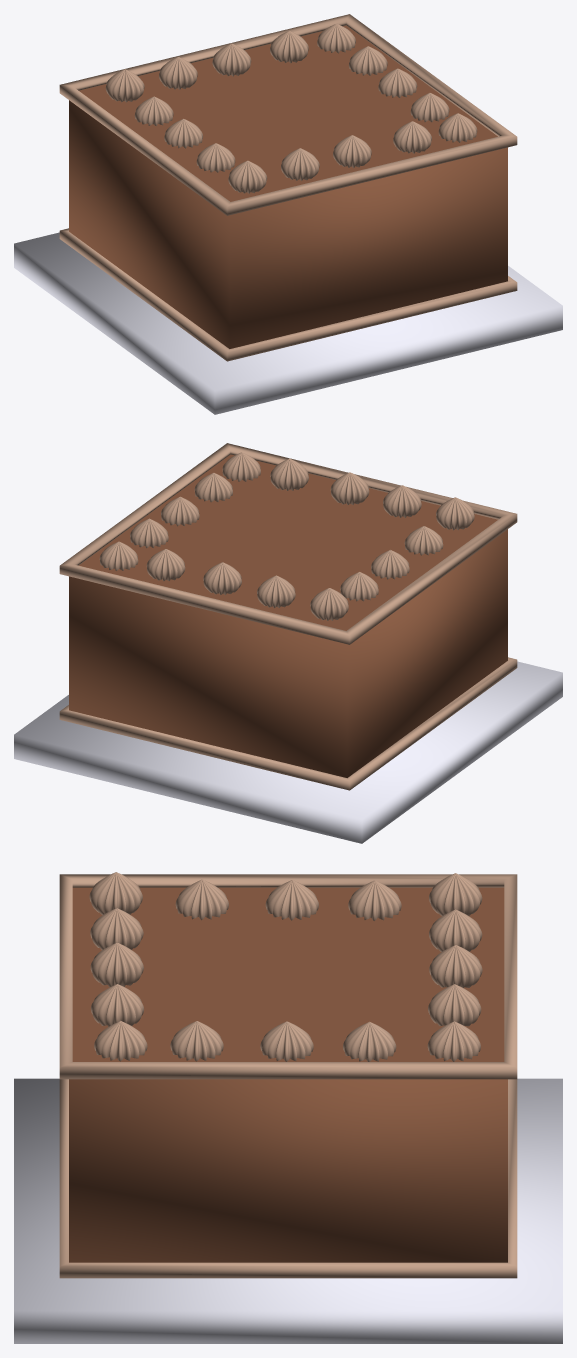
Rendered from square_chocolate_style1.glb.
3 views of the same model, one above another, from view 1: azimuth 30°, elevation 25°; view 2: azimuth 150°, elevation 25°; view 3: azimuth 270°, elevation 25° (orthographic). The views are drawn at different scales.
Visible parts, largest first — view 1: CakeBase, IcingStand, CakeTopCircle, IcingRing, IcingRing.001, design12, design13, design8, design11, design9, design10, design7 (+9 smaller); view 2: CakeBase, IcingStand, CakeTopCircle, IcingRing, IcingRing.001, design13, design12, design9, design8, design11, design10, design7 (+9 smaller); view 3: CakeBase, IcingStand, CakeTopCircle, IcingRing, IcingRing.001, design9, design8, design7, design6, design12, design13, design11 (+9 smaller).
Part boxes in pixels (left/top/right/bottom): CakeBase: left=69, top=100, right=507, bottom=348; IcingStand: left=14, top=232, right=562, bottom=414; CakeTopCircle: left=79, top=25, right=497, bottom=201; IcingRing: left=59, top=14, right=517, bottom=215; IcingRing.001: left=59, top=228, right=517, bottom=361; design12: left=105, top=69, right=144, bottom=102; design13: left=228, top=160, right=267, bottom=193; design8: left=212, top=43, right=251, bottom=76; design11: left=159, top=57, right=197, bottom=89; design9: left=333, top=135, right=371, bottom=167; design10: left=281, top=148, right=319, bottom=180; design7: left=270, top=30, right=308, bottom=63; CakeBase: left=69, top=529, right=507, bottom=777; IcingStand: left=14, top=661, right=562, bottom=843; CakeTopCircle: left=79, top=454, right=497, bottom=630; IcingRing: left=59, top=443, right=517, bottom=644; IcingRing.001: left=59, top=657, right=517, bottom=790; design13: left=436, top=497, right=474, bottom=530; design12: left=310, top=588, right=348, bottom=620; design9: left=330, top=472, right=369, bottom=504; design8: left=203, top=562, right=241, bottom=594; design11: left=257, top=575, right=295, bottom=608; design10: left=383, top=485, right=421, bottom=517; design7: left=146, top=549, right=185, bottom=581; CakeBase: left=69, top=1079, right=507, bottom=1262; IcingStand: left=14, top=1078, right=562, bottom=1343; CakeTopCircle: left=72, top=887, right=504, bottom=1061; IcingRing: left=59, top=874, right=517, bottom=1079; IcingRing.001: left=59, top=1079, right=517, bottom=1278; design9: left=90, top=942, right=143, bottom=986; design8: left=429, top=945, right=482, bottom=987; design7: left=428, top=984, right=481, bottom=1026; design6: left=90, top=984, right=144, bottom=1026; design12: left=429, top=873, right=482, bottom=915; design13: left=89, top=872, right=142, bottom=915; design11: left=429, top=909, right=482, bottom=951.
Size of the model in its own units: 3 by 1.73 by 3.
